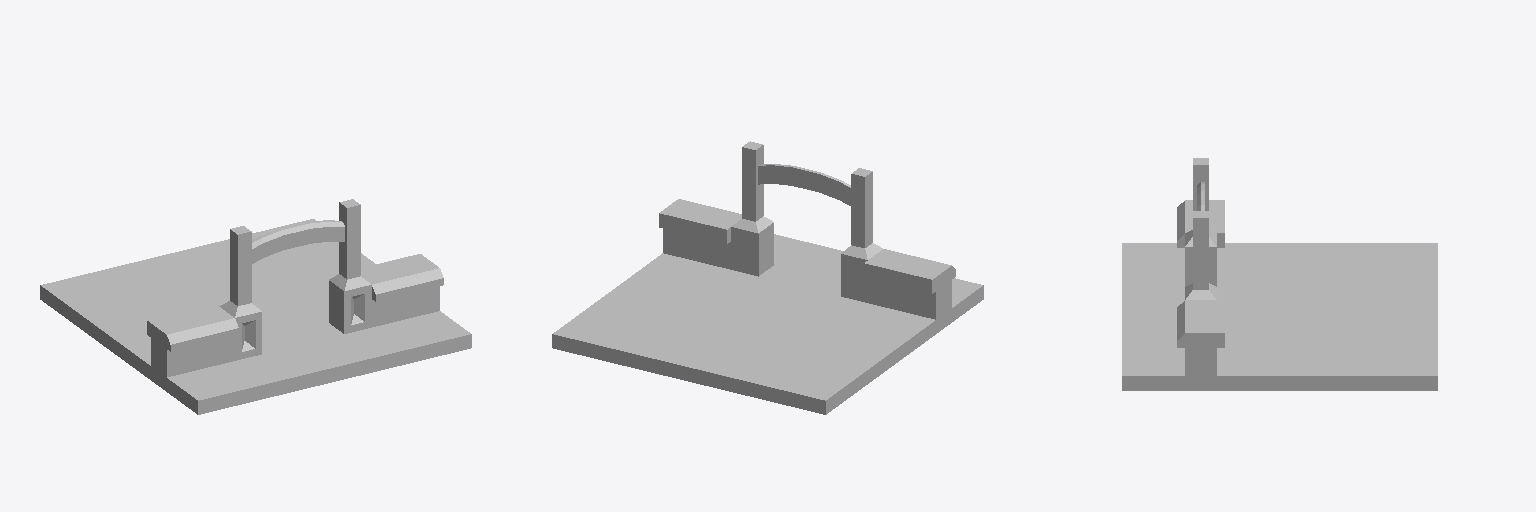
File: park_wall_entry.obj
3 renders of one model, left to right at view 1: azimuth 30°, elevation 25°; view 2: azimuth 150°, elevation 25°; view 3: azimuth 270°, elevation 25°, orthographic.
Visible parts, largest first — view 1: park_wall_entry_Cube.14219; view 2: park_wall_entry_Cube.14219; view 3: park_wall_entry_Cube.14219.
Part boxes in pixels (left/top/right/bottom): park_wall_entry_Cube.14219: left=40, top=199, right=471, bottom=414; park_wall_entry_Cube.14219: left=552, top=141, right=983, bottom=414; park_wall_entry_Cube.14219: left=1122, top=158, right=1437, bottom=390.
Size of the model in its own units: 2 by 0.95 by 2.